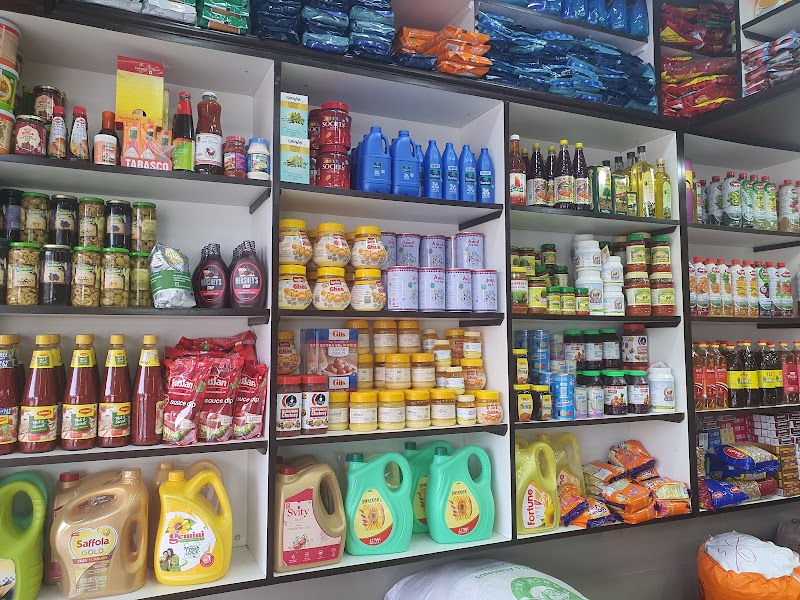other: (506, 227, 681, 426), (263, 432, 501, 572), (271, 310, 505, 444), (41, 195, 270, 323), (59, 331, 269, 449), (279, 219, 499, 317), (510, 422, 694, 534), (510, 141, 671, 231), (132, 497, 234, 599), (694, 419, 800, 510), (0, 190, 68, 305), (692, 341, 799, 413), (0, 335, 54, 451), (145, 455, 229, 527), (688, 251, 776, 312), (15, 87, 79, 151), (692, 175, 776, 214), (118, 111, 168, 172), (282, 138, 349, 182), (177, 92, 190, 123)
parachute: (388, 129, 501, 202)
saffola: (48, 465, 149, 600)
